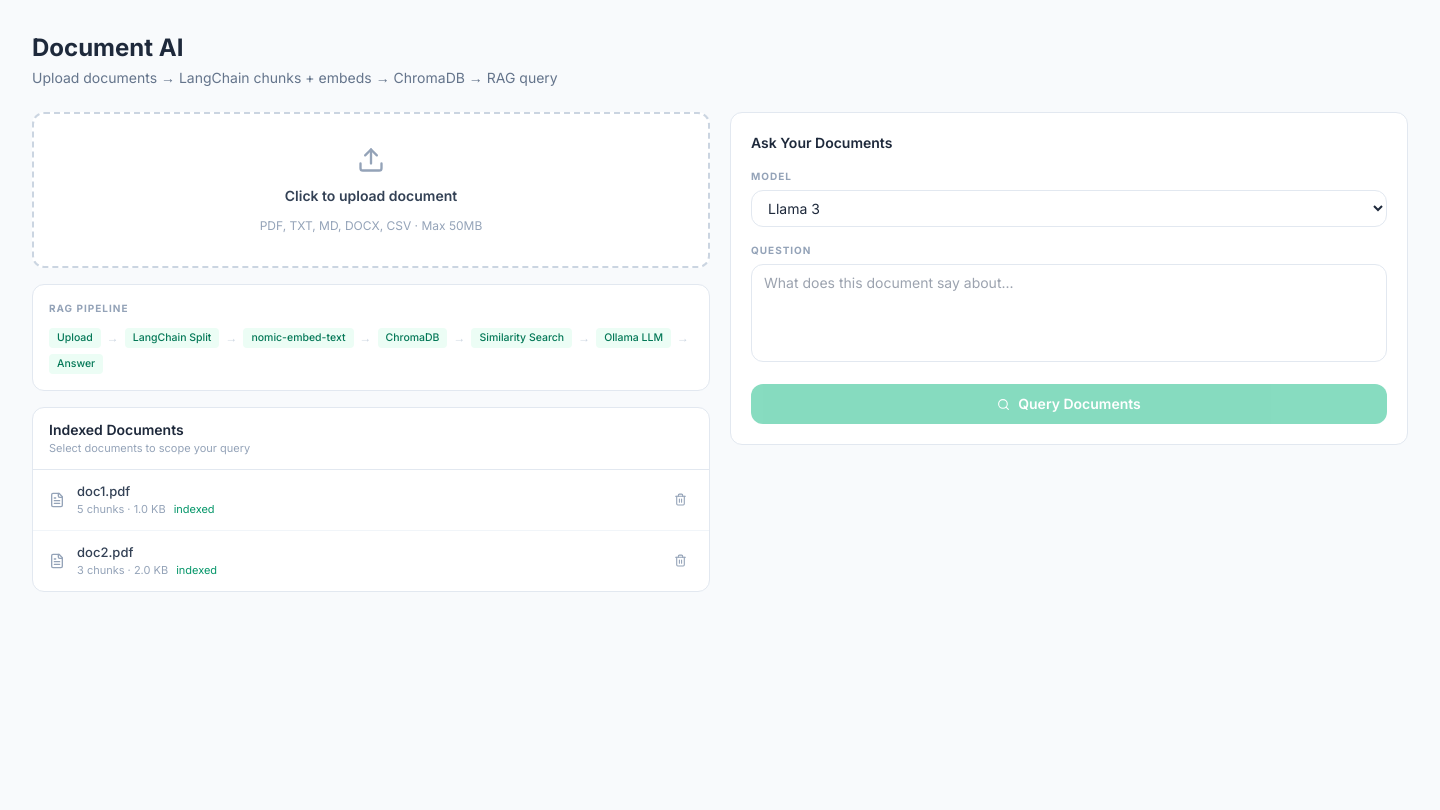
DocumentsPage › shows selected docs count in query label
# Click on the first document to select it
Click the text "doc1.pdf" at (104, 490), box [77,482,130,498]
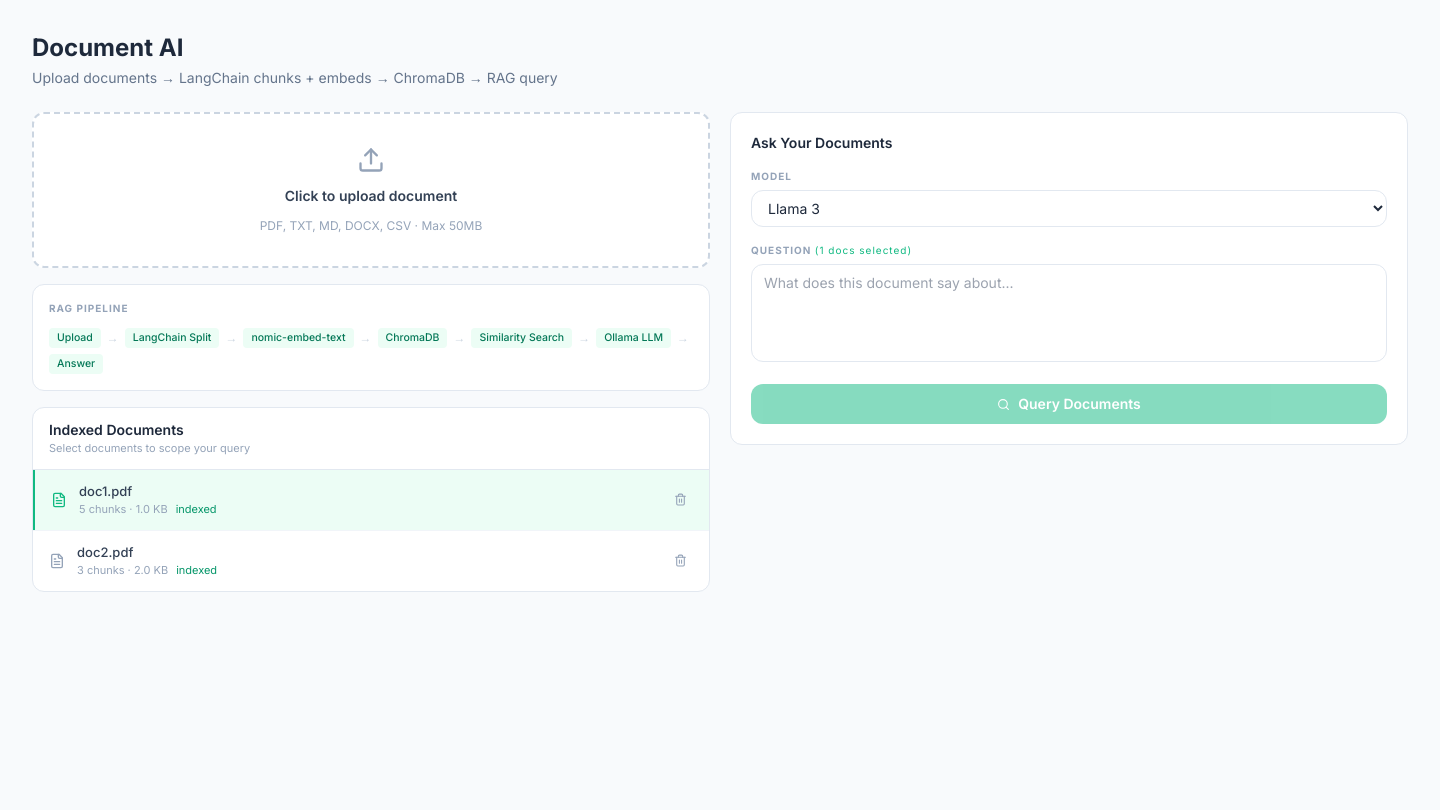
Check: the text "(1 docs selected)" is shown, box [815,244,912,256]
